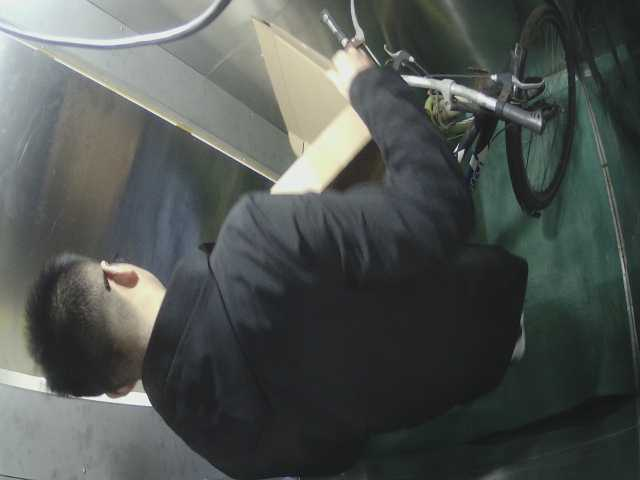bicycle: (305, 2, 603, 233)
person: (18, 71, 501, 452)
